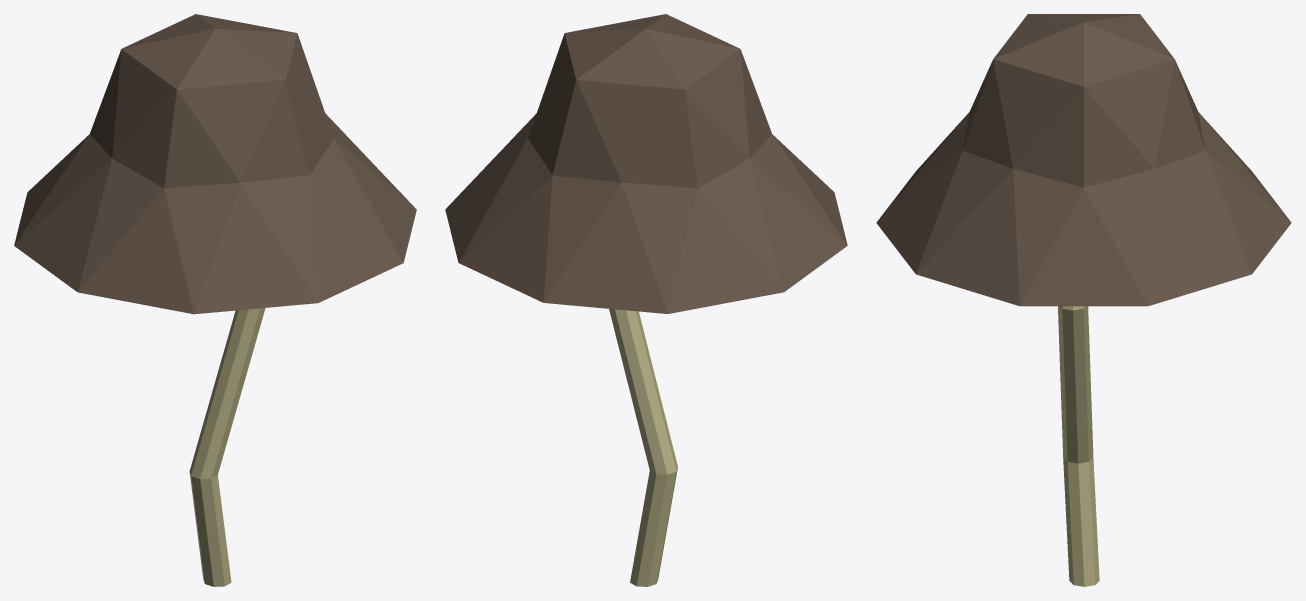
Rendered from hat_mushroom_tall_brown.fbx.
3 views of the same model, side by side, from view 1: azimuth 30°, elevation 25°; view 2: azimuth 150°, elevation 25°; view 3: azimuth 270°, elevation 25° (orthographic).
Visible parts, largest first — view 1: hat_mushroom_tall_brown; view 2: hat_mushroom_tall_brown; view 3: hat_mushroom_tall_brown.
Boxes of the visible parts, box(x1,y1,x2,y2) form: hat_mushroom_tall_brown: box(14, 14, 416, 586); hat_mushroom_tall_brown: box(445, 14, 847, 586); hat_mushroom_tall_brown: box(876, 14, 1291, 586).
Size of the model in its own units: 89.41 by 139 by 94.01.
